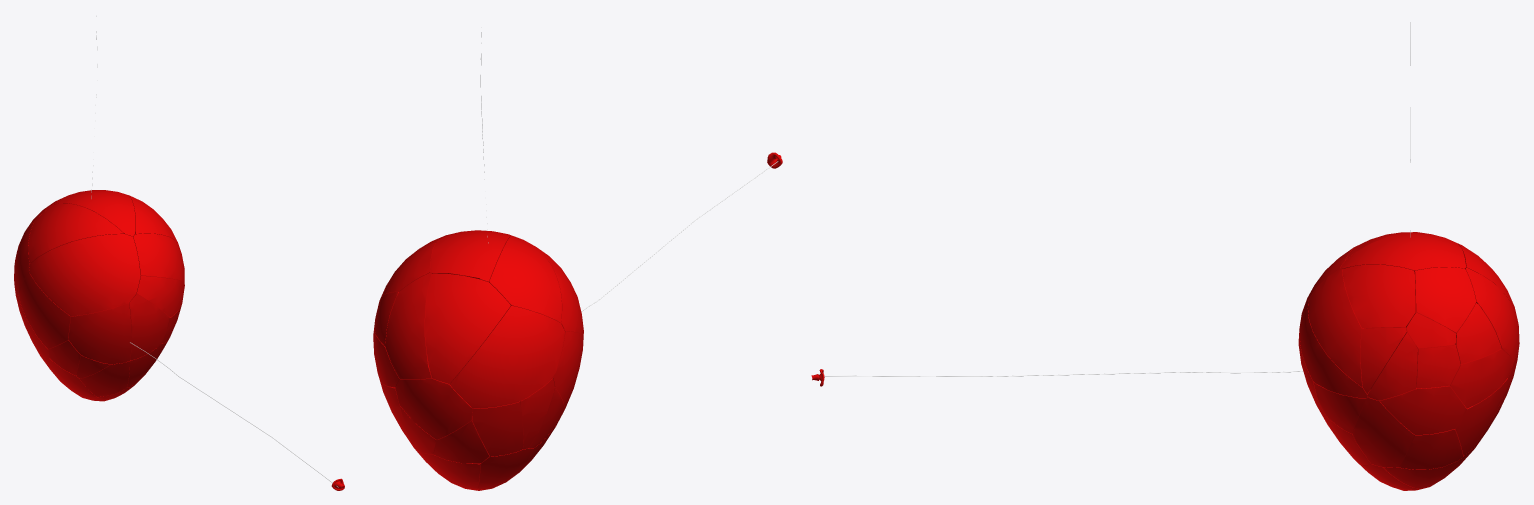
Rendered from Broken Ballon.glb.
The picture shows the model from 3 angles, left to right: view 1: azimuth 30°, elevation 25°; view 2: azimuth 150°, elevation 25°; view 3: azimuth 270°, elevation 25°; orthographic projection. The views are drawn at different scales.
Visible parts, largest first — view 1: Object_cell.038, Object_cell.036, Object_cell.030, Object_cell.015, Object_cell.020, Object_cell.011, Object_cell.002, Object_cell.022, Object_cell.008, Object_cell.017, Object_cell.004, Object_cell.019 (+4 smaller); view 2: Object_cell.004, Object_cell.034, Object_cell.030, Object_cell.018, Object_cell.001, Object_cell.002, Object_cell.013, Object_cell.028, Object_cell.015, Object_cell.006, Object_cell.016, Object_cell.038 (+7 smaller); view 3: Object_cell.017, Object_cell.020, Object_cell.002, Object_cell.012, Object_cell.014, Object_cell.027, Object_cell, Object_cell.022, Object_cell.018, Object_cell.032, Object_cell.025, Object_cell.031 (+6 smaller).
Part boxes in pixels (x1,y1,x2,y2): Object_cell.038: (29, 234, 140, 316); Object_cell.036: (68, 303, 131, 364); Object_cell.030: (28, 203, 123, 263); Object_cell.015: (19, 273, 70, 348); Object_cell.020: (133, 233, 184, 281); Object_cell.011: (129, 293, 169, 360); Object_cell.002: (54, 190, 135, 236); Object_cell.022: (136, 276, 184, 317); Object_cell.008: (80, 361, 129, 396); Object_cell.017: (130, 197, 175, 240); Object_cell.004: (14, 223, 33, 295); Object_cell.019: (48, 340, 81, 375); Object_cell.004: (449, 306, 564, 408); Object_cell.034: (425, 273, 510, 383); Object_cell.030: (489, 235, 561, 322); Object_cell.018: (385, 272, 431, 379); Object_cell.001: (395, 378, 472, 439); Object_cell.002: (430, 230, 511, 281); Object_cell.013: (472, 401, 523, 456); Object_cell.028: (433, 412, 489, 463); Object_cell.015: (553, 331, 583, 408); Object_cell.006: (477, 448, 532, 489); Object_cell.016: (520, 378, 554, 449); Object_cell.038: (533, 245, 583, 334); Object_cell.017: (1342, 264, 1415, 328); Object_cell.020: (1308, 268, 1365, 387); Object_cell.002: (1340, 233, 1466, 273); Object_cell.012: (1415, 267, 1476, 332); Object_cell.014: (1380, 386, 1466, 434); Object_cell.027: (1352, 397, 1414, 467); Object_cell: (1449, 349, 1513, 408); Object_cell.022: (1299, 300, 1369, 398); Object_cell.018: (1465, 267, 1519, 360); Object_cell.032: (1367, 332, 1417, 400); Object_cell.025: (1399, 429, 1462, 469); Object_cell.031: (1360, 327, 1407, 393).
Bounding box in the file's own units: 0.9845 × 2.48 × 3.38.
